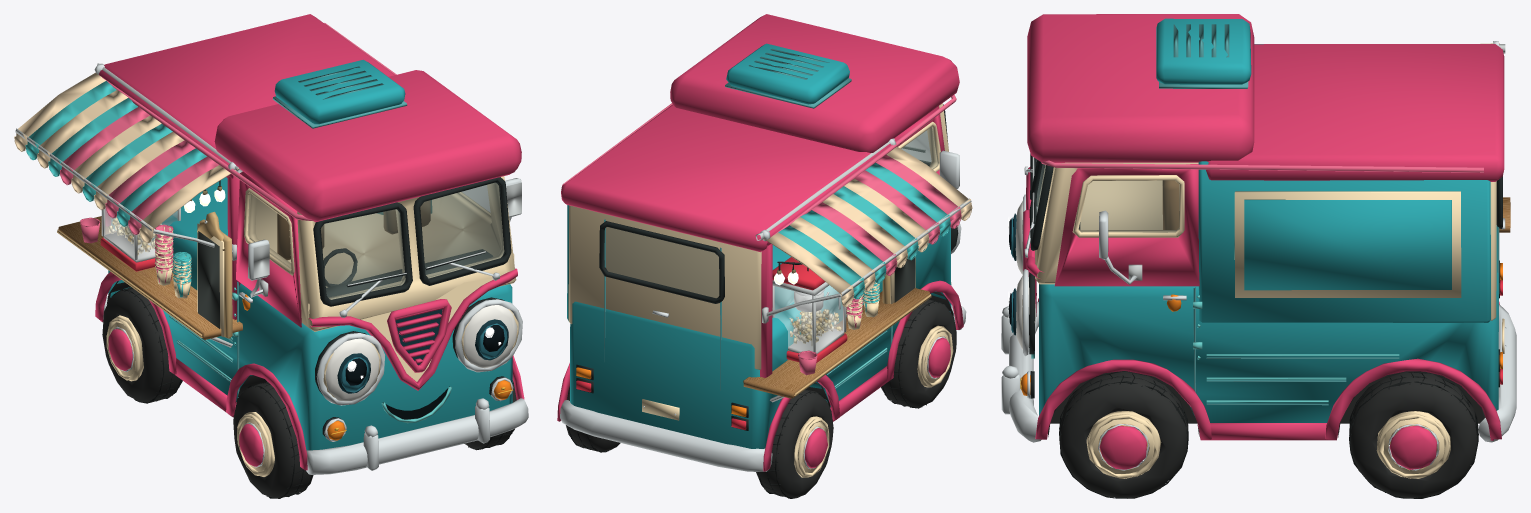
File: camper-van.glb
The picture shows the model from 3 angles, left to right: view 1: azimuth 30°, elevation 25°; view 2: azimuth 150°, elevation 25°; view 3: azimuth 270°, elevation 25°; orthographic projection. The views are drawn at different scales.
Parts seen in each view (by area): view 1: camper-van; view 2: camper-van; view 3: camper-van.
Part boxes in pixels (x1=…): camper-van: x1=14, y1=14, x2=528, y2=498; camper-van: x1=557, y1=14, x2=972, y2=498; camper-van: x1=1001, y1=14, x2=1516, y2=498.
Size of the model in its own units: 2.29 by 2.4 by 2.81.
Materials: 35 (1 with a texture image).
